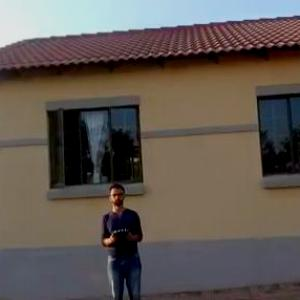follow: (98, 178, 149, 299)
